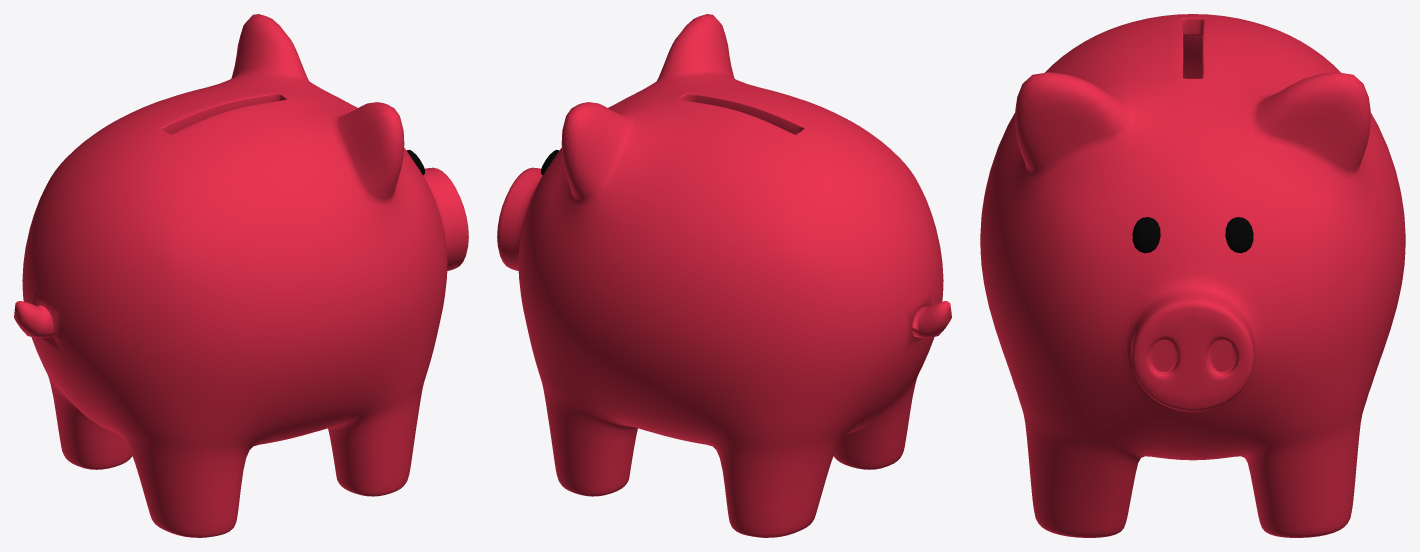
File: piggy_bank.fbx
3 views of the same model, side by side, from view 1: azimuth 30°, elevation 25°; view 2: azimuth 150°, elevation 25°; view 3: azimuth 270°, elevation 25° (orthographic). The views are drawn at different scales.
Parts seen in each view (by area): view 1: Object_3; view 2: Object_3; view 3: Object_3, Object_2.
Boxes of the visible parts, x1,y1,x2,y2 form: Object_3: [14, 14, 468, 537]; Object_3: [497, 14, 951, 537]; Object_3: [980, 14, 1405, 537]; Object_2: [1132, 217, 1253, 253].
Bounding box in the file's own units: 0.2153 × 0.184 × 0.1581.
